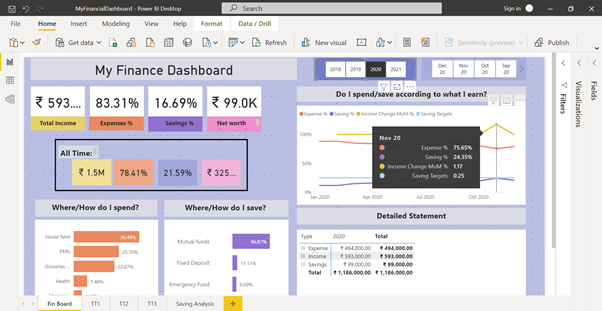

Layout of this report page (visuals, bound fields, positions):
{"tool":"powerbi","page":{"name":"Fin Board","canvas":[1280,720],"ordinal":0},"visuals":[{"type":"card","fields":{"Values":["FinData.Total Income"]},"box":[15.5,71.5,132,74.6],"z":0},{"type":"card","fields":{"Values":["FinData.Expense %"]},"box":[160,71.5,132,74.6],"z":1000},{"type":"card","fields":{"Values":["FinData.Saving %"]},"box":[302.9,71.5,132,74.6],"z":2000},{"type":"card","fields":{"Values":["FinData.Total Saving"]},"box":[445.8,71.5,132,74.6],"z":3000},{"type":"textbox","box":[445.8,144.5,132,37.3],"z":4000},{"type":"textbox","title":"Saving %","box":[302.9,144.5,132,37.3],"z":5000},{"type":"textbox","box":[158.4,144.5,133.6,34.2],"z":6000},{"type":"textbox","box":[15.5,144.5,132,34.2],"z":7000},{"type":"slicer","fields":{"Values":["FinData.Year"]},"box":[706.8,1.6,248.5,54.4],"z":8000},{"type":"slicer","fields":{"Values":["FinData.Date"]},"box":[967.8,0,254.8,55.9],"z":9000},{"type":"card","fields":{"Values":["FinData.Total Income"]},"box":[116.5,248.5,95,63.7],"z":10000},{"type":"card","fields":{"Values":["FinData.Expense %"]},"box":[219,248.5,94.8,65.2],"z":11000},{"type":"card","fields":{"Values":["FinData.Saving %"]},"box":[326.2,250.1,94.8,63.7],"z":12000},{"type":"card","fields":{"Values":["FinData.Total Saving"]},"box":[433.4,250.1,94.8,63.7],"z":13000},{"type":"textbox","box":[83.9,215.9,97.9,31.1],"z":14000},{"type":"card","fields":{"Values":["FinData.Title"]},"box":[15.5,1.6,649.3,54.4],"z":15000},{"type":"clusteredBarChart","fields":{"Category":["FinData.Component"],"Y":["FinData.Total Expense"]},"box":[26.4,396.1,299.8,256.3],"z":16000},{"type":"textbox","box":[27.4,347.4,297.1,41.1],"z":17000},{"type":"clusteredBarChart","fields":{"Category":["FinData.Component"],"Y":["FinData.Total Saving"]},"box":[341.7,396.1,302.9,256.3],"z":18000},{"type":"textbox","box":[341.7,348,302.9,40.4],"z":19000},{"type":"lineChart","fields":{"Y":["FinData.Expense %","FinData.Saving %","FinData.Income Change MoM %","FinData.Saving Targets"],"Category":["FinData.Date"]},"box":[664.9,118.1,557.7,242.3],"z":20000},{"type":"textbox","box":[664.9,71.5,557.7,37.3],"z":21000},{"type":"pivotTable","fields":{"Values":["FinData.Value Measure"],"Columns":["FinData.Year","FinData.Date"],"Rows":["FinData.Type","FinData.Component"]},"box":[664.9,421,557.7,231.5],"z":22000},{"type":"shape","box":[74.6,198.8,470.7,127.4],"z":23000},{"type":"textbox","box":[664.9,368.2,557.7,40.4],"z":23002}]}

Visuals, with their boxes on the page's 1280x720 design canvas (x1, y1, x2, y2). These are canvas units, not pixel positions in the 602x311 screenshot, which may show the page scaled, cropped or inside an application window:
card - FinData.Total Income: x1=16, y1=72, x2=148, y2=146
card - FinData.Expense %: x1=160, y1=72, x2=292, y2=146
card - FinData.Saving %: x1=303, y1=72, x2=435, y2=146
card - FinData.Total Saving: x1=446, y1=72, x2=578, y2=146
textbox: x1=446, y1=144, x2=578, y2=182
"Saving %" textbox: x1=303, y1=144, x2=435, y2=182
textbox: x1=158, y1=144, x2=292, y2=179
textbox: x1=16, y1=144, x2=148, y2=179
slicer - FinData.Year: x1=707, y1=2, x2=955, y2=56
slicer - FinData.Date: x1=968, y1=0, x2=1223, y2=56
card - FinData.Total Income: x1=116, y1=248, x2=212, y2=312
card - FinData.Expense %: x1=219, y1=248, x2=314, y2=314
card - FinData.Saving %: x1=326, y1=250, x2=421, y2=314
card - FinData.Total Saving: x1=433, y1=250, x2=528, y2=314
textbox: x1=84, y1=216, x2=182, y2=247
card - FinData.Title: x1=16, y1=2, x2=665, y2=56
clusteredBarChart - FinData.Component x FinData.Total Expense: x1=26, y1=396, x2=326, y2=652
textbox: x1=27, y1=347, x2=324, y2=388
clusteredBarChart - FinData.Component x FinData.Total Saving: x1=342, y1=396, x2=645, y2=652
textbox: x1=342, y1=348, x2=645, y2=388
lineChart - FinData.Expense % x FinData.Saving %: x1=665, y1=118, x2=1223, y2=360
textbox: x1=665, y1=72, x2=1223, y2=109
pivotTable - FinData.Value Measure x FinData.Year: x1=665, y1=421, x2=1223, y2=652
shape: x1=75, y1=199, x2=545, y2=326
textbox: x1=665, y1=368, x2=1223, y2=409
